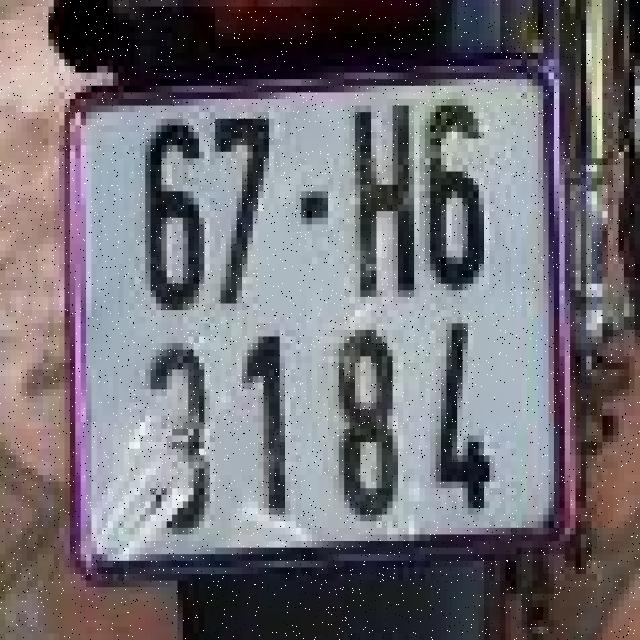1: (234, 320, 304, 531)
3: (140, 330, 220, 541)
4: (428, 316, 508, 514)
6: (126, 115, 212, 320), (417, 89, 497, 294)
7: (210, 112, 290, 317)
8: (328, 327, 409, 538)
H: (339, 102, 425, 307)
